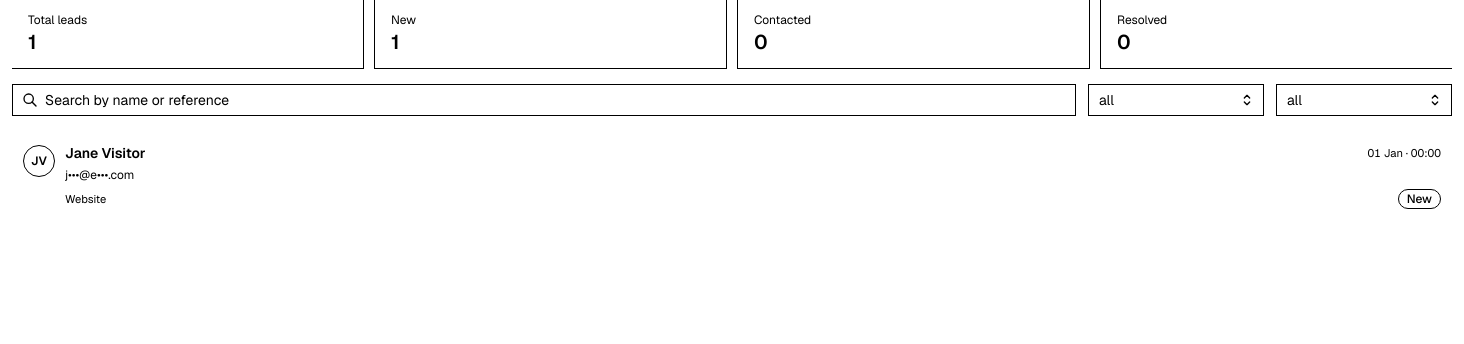
Test case: LeadsView — empty and no-results states › shows a no-results state when the search excludes every lead, offering to clear filters
expect the text "Jane Visitor" is shown: met, box [65, 143, 146, 163]
Type "nonexistent name" into the search field named "Search leads" at (544, 100), box [12, 84, 1076, 116]
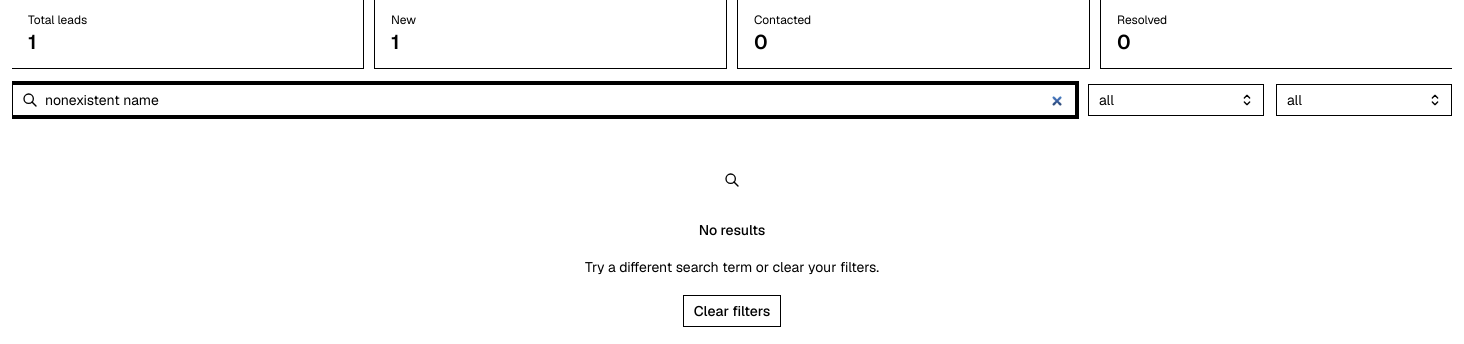
expect the text "No results" is shown: met, box [699, 220, 765, 240]
expect the button "Clear filters" is shown: met, box [683, 295, 781, 327]
